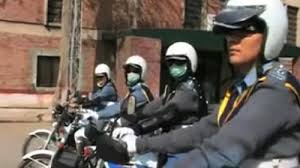helmet: (227, 1, 279, 56), (160, 40, 198, 83), (122, 54, 152, 85), (91, 57, 116, 89)
